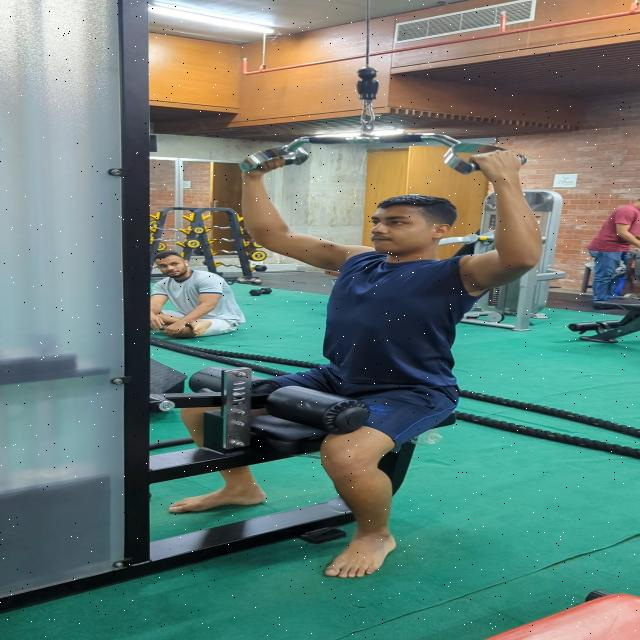Normal_LatPulldown: (163, 133, 551, 577)
